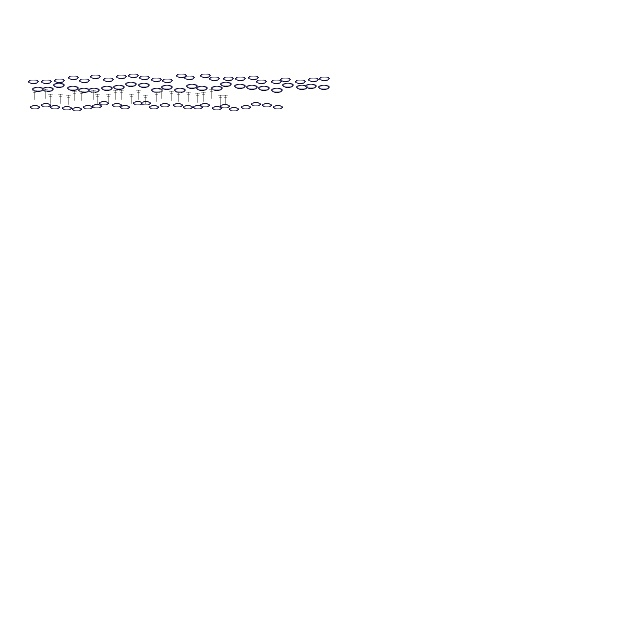chain: (78, 76, 92, 86), (208, 74, 222, 84), (222, 74, 236, 84), (234, 74, 248, 84), (318, 74, 332, 84), (31, 84, 45, 94), (41, 84, 55, 94), (52, 80, 66, 90), (66, 83, 80, 93), (77, 85, 91, 95), (87, 85, 101, 95), (100, 83, 114, 93), (112, 82, 126, 92), (124, 79, 138, 89), (137, 80, 151, 90), (150, 85, 164, 95), (160, 82, 174, 92), (173, 85, 187, 95), (185, 81, 199, 91), (195, 83, 209, 93), (210, 83, 224, 93), (219, 79, 233, 89), (233, 81, 247, 91), (245, 82, 259, 92), (257, 83, 271, 93), (270, 85, 284, 95), (281, 80, 295, 90), (295, 82, 309, 92), (304, 81, 318, 91), (317, 82, 331, 92), (54, 76, 66, 86), (90, 72, 102, 82), (116, 72, 128, 82), (162, 76, 174, 86), (40, 78, 54, 86), (102, 76, 116, 84), (138, 74, 152, 82), (150, 76, 164, 84), (270, 78, 284, 86), (294, 78, 308, 86), (28, 78, 40, 86), (68, 74, 80, 82), (128, 72, 140, 80), (176, 72, 188, 80), (184, 74, 196, 82), (200, 72, 212, 80), (248, 74, 260, 82), (256, 78, 268, 86), (280, 76, 292, 84), (308, 76, 320, 84), (29, 103, 41, 111), (40, 101, 52, 109), (49, 103, 61, 111), (61, 104, 73, 112), (71, 105, 83, 113), (82, 103, 94, 111), (91, 102, 103, 110), (98, 99, 110, 107), (111, 101, 123, 109), (119, 103, 131, 111), (132, 99, 144, 107), (140, 99, 152, 107), (148, 103, 160, 111), (159, 101, 171, 109), (172, 101, 184, 109), (182, 103, 194, 111), (192, 103, 204, 111), (199, 101, 211, 109), (211, 104, 223, 112), (219, 102, 231, 110), (228, 105, 240, 113), (240, 103, 252, 111), (250, 100, 262, 108), (261, 101, 273, 109), (272, 103, 284, 111)
double treble: (32, 90, 38, 100), (48, 94, 54, 104), (58, 94, 64, 104), (66, 95, 72, 105), (72, 91, 78, 101), (106, 94, 112, 104), (136, 90, 142, 100), (154, 92, 160, 102), (176, 92, 182, 102), (186, 92, 192, 102), (218, 95, 224, 105), (44, 89, 48, 99), (80, 91, 84, 101), (92, 90, 96, 100), (96, 94, 100, 104), (114, 90, 118, 100), (120, 90, 124, 100), (130, 94, 134, 104), (144, 95, 148, 105), (160, 89, 164, 99), (170, 91, 174, 101), (196, 93, 200, 103), (202, 92, 206, 102), (210, 89, 214, 99), (224, 95, 228, 105)
